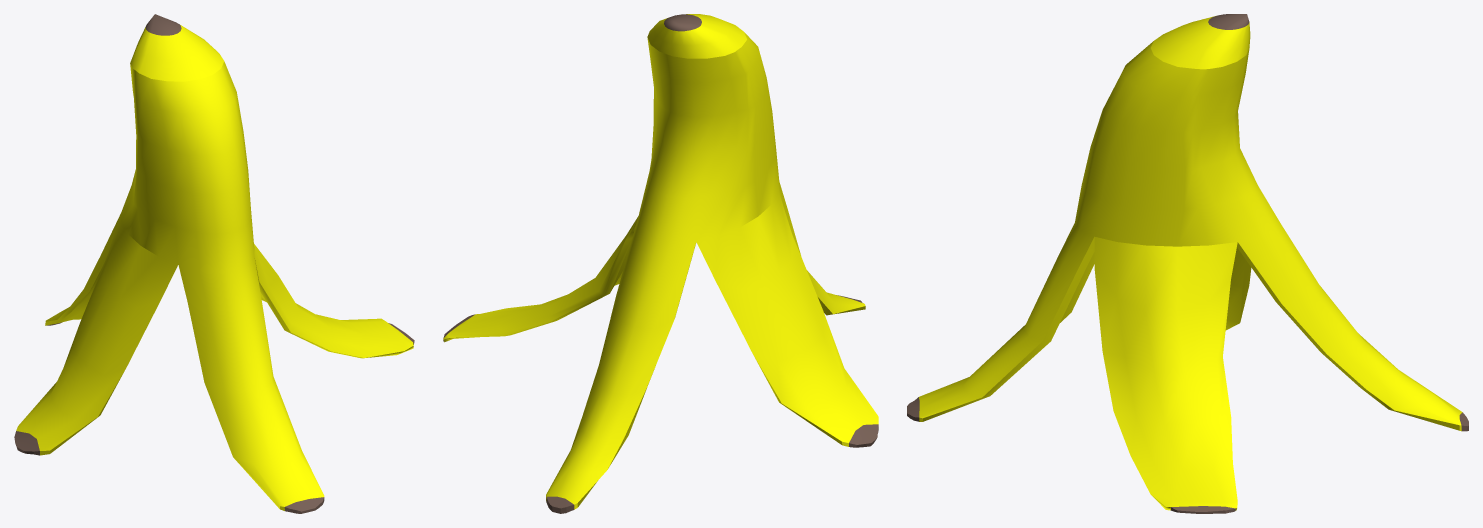
File: banana.fbx
The picture shows the model from 3 angles, left to right: view 1: azimuth 30°, elevation 25°; view 2: azimuth 150°, elevation 25°; view 3: azimuth 270°, elevation 25°; orthographic projection. The views are drawn at different scales.
Visible parts, largest first — view 1: Banana; view 2: Banana; view 3: Banana.
Part boxes in pixels (x1,y1,x2,y2): Banana: (14,14,414,513); Banana: (443,14,878,513); Banana: (907,14,1468,513).
Bounding box in the file's own units: 52.53 × 49.93 × 61.76.
